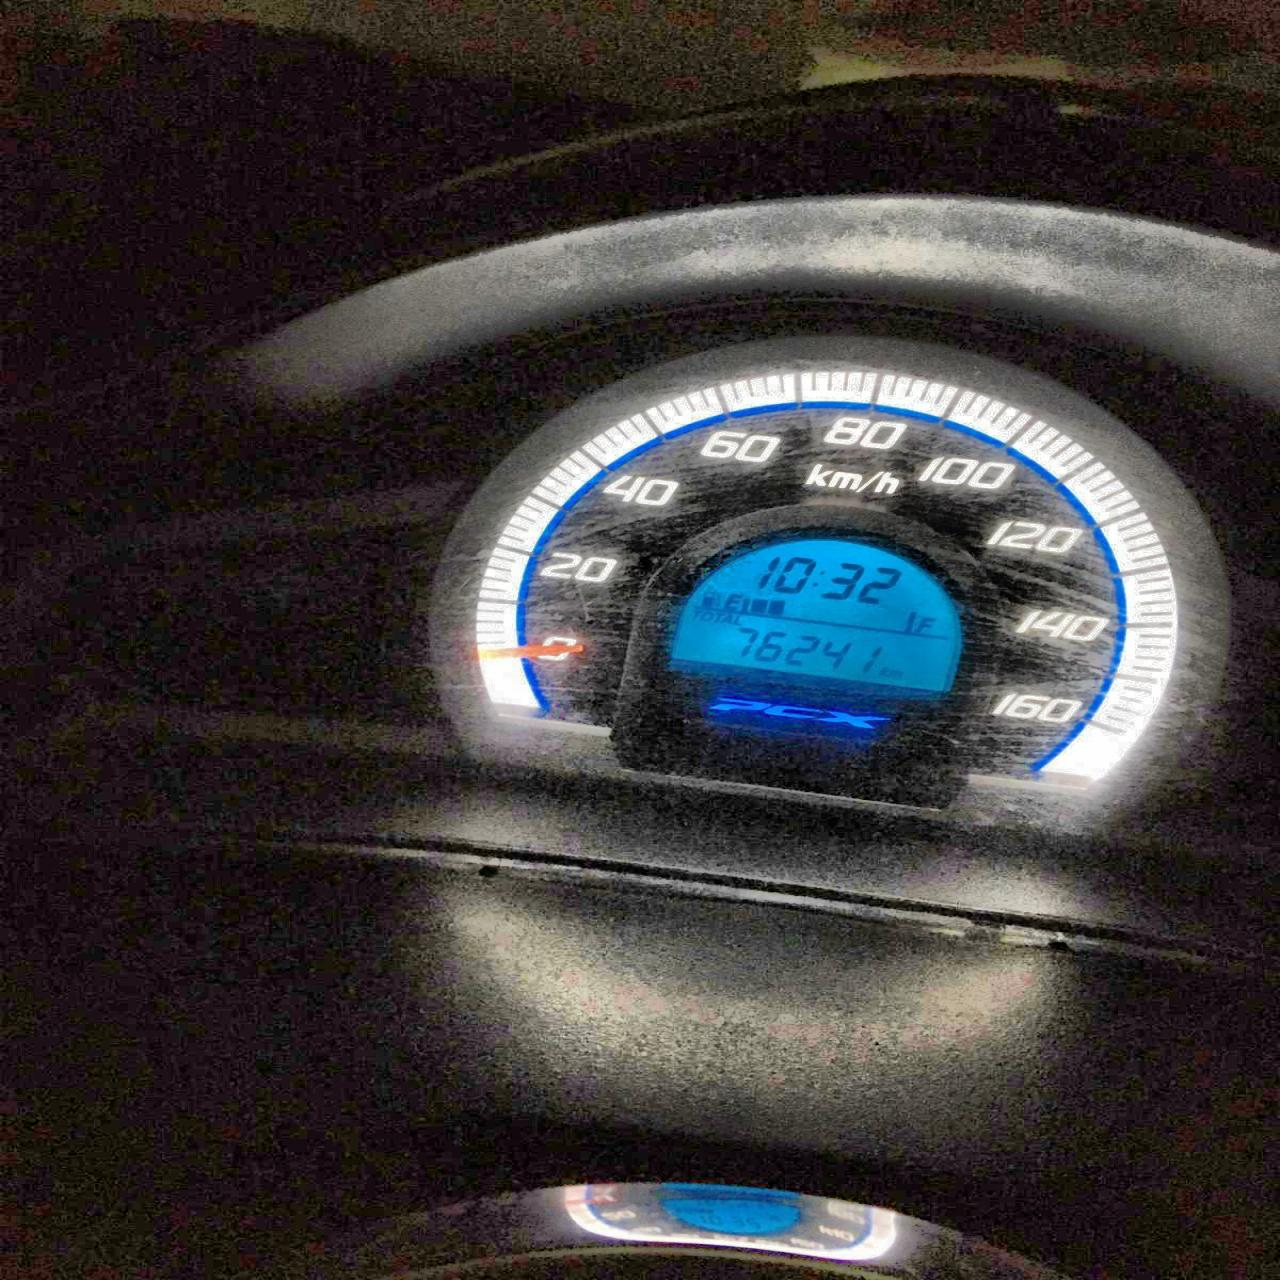0: (779, 553, 811, 593)
1: (753, 551, 775, 587), (862, 645, 880, 674)
2: (862, 564, 900, 602), (787, 633, 818, 667)
3: (828, 559, 859, 601)
4: (823, 639, 852, 672)
6: (756, 628, 781, 662)
7: (734, 626, 756, 661)
X: (918, 615, 937, 631), (724, 593, 741, 610), (812, 568, 824, 588), (701, 611, 713, 621), (888, 669, 901, 679), (733, 613, 741, 626), (690, 610, 700, 620), (714, 611, 723, 621), (723, 614, 731, 624), (880, 665, 886, 676)
odometer: (662, 519, 973, 699)
